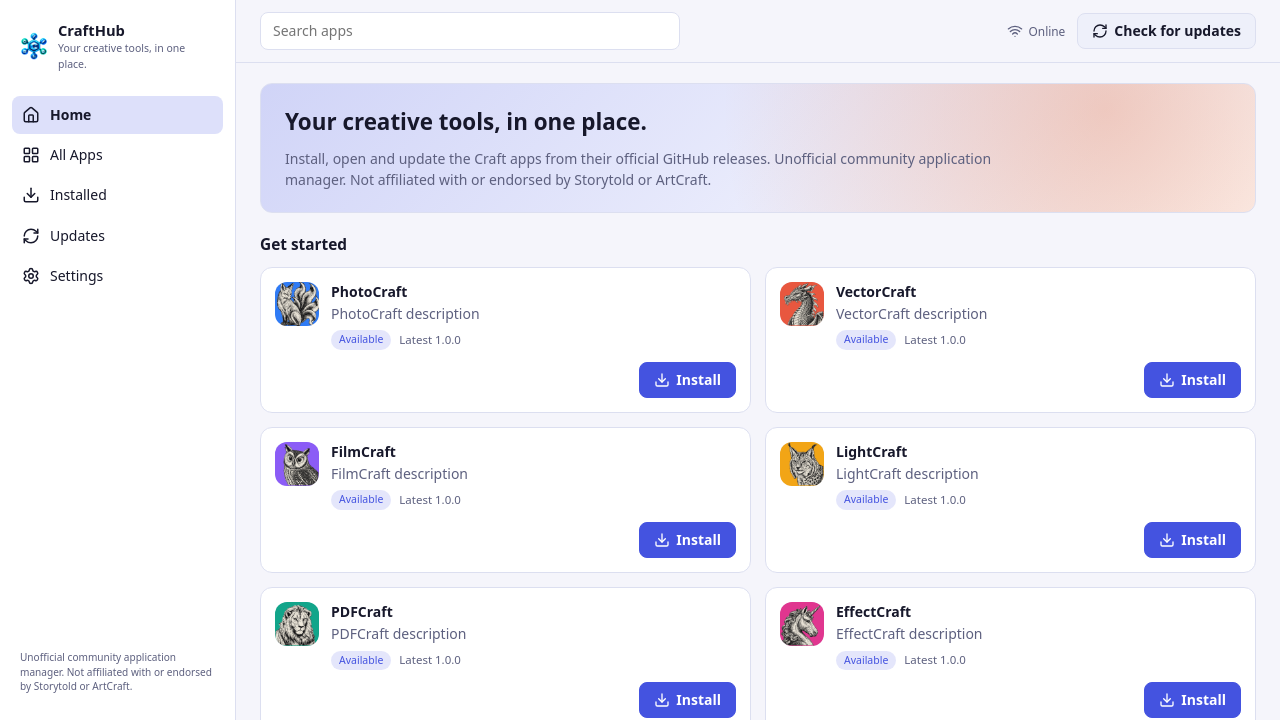
Test: catalog › lists all 12 Craft apps and ArtCraft separately
Click the button "All Apps". click: [118, 155]
box: 12,136 -> 223,174
(page scrolled)
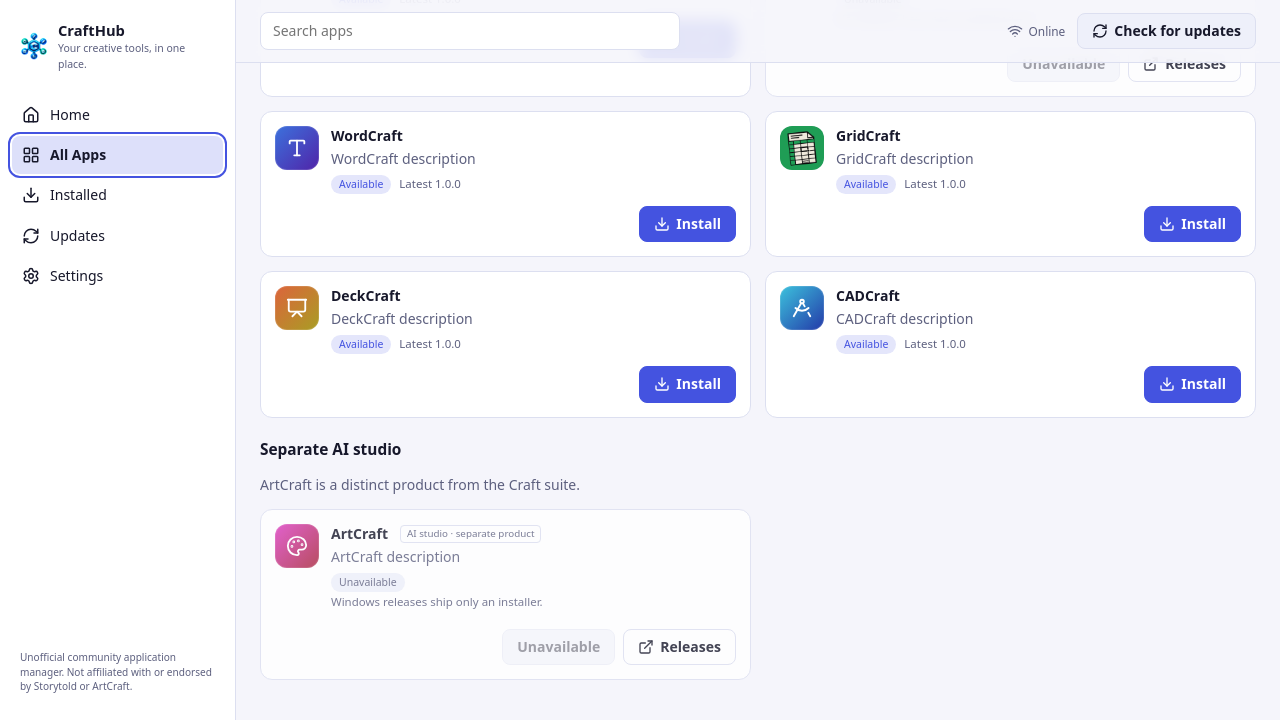
Check: the element "WordCraft" is shown, box 260,111 -> 751,258
Check: the element "GridCraft" is shown, box 765,111 -> 1256,258
Check: the element "DeckCraft" is shown, box 260,272 -> 751,418
